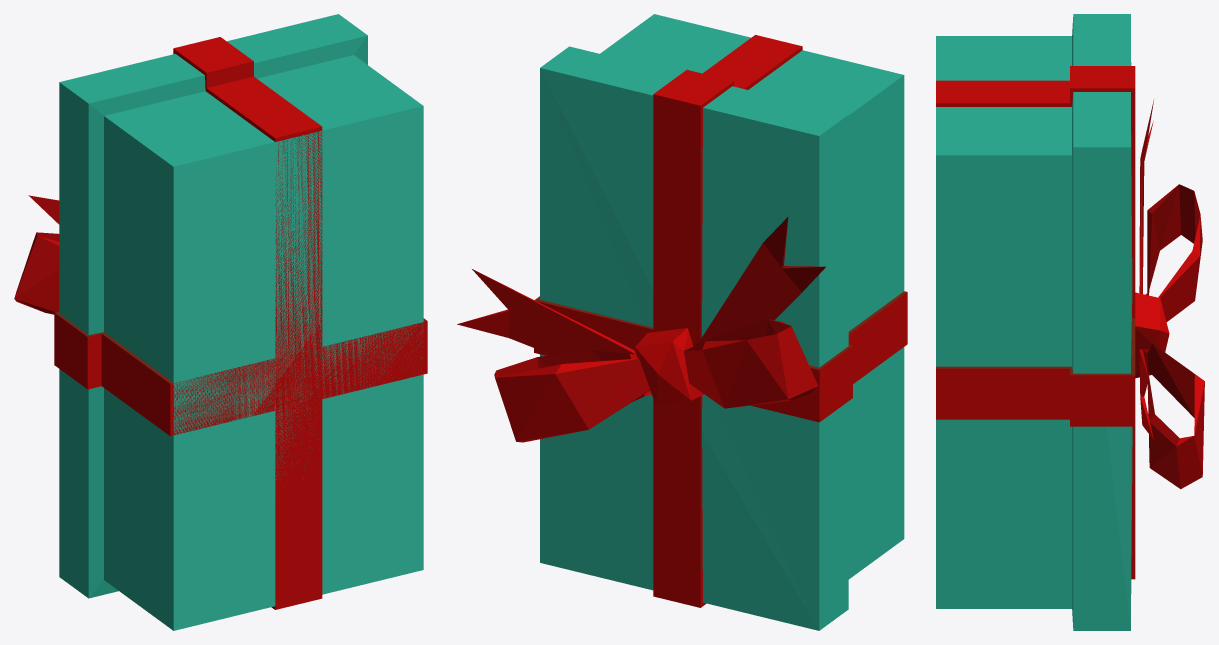
File: gift_box_2.fbx
3 views of the same model, side by side, from view 1: azimuth 30°, elevation 25°; view 2: azimuth 150°, elevation 25°; view 3: azimuth 270°, elevation 25° (orthographic). The views are drawn at different scales.
Visible parts, largest first — view 1: gift_box_2; view 2: gift_box_2; view 3: gift_box_2.
Part boxes in pixels (x1=…): gift_box_2: x1=14, y1=14, x2=427, y2=630; gift_box_2: x1=457, y1=14, x2=907, y2=630; gift_box_2: x1=936, y1=14, x2=1204, y2=630.
Bounding box in the file's own units: 325 × 418 × 207.
